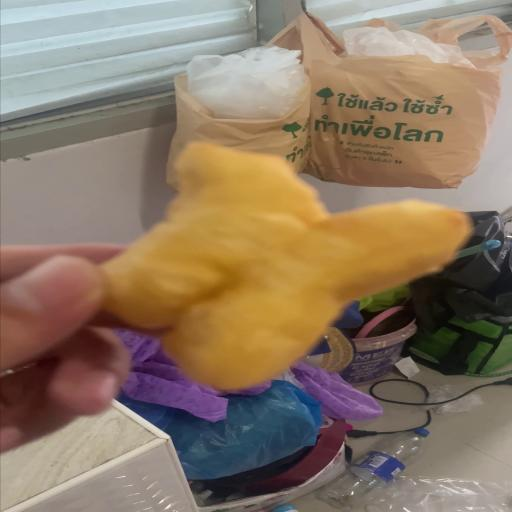street_golden_good: (102, 142, 470, 390)
